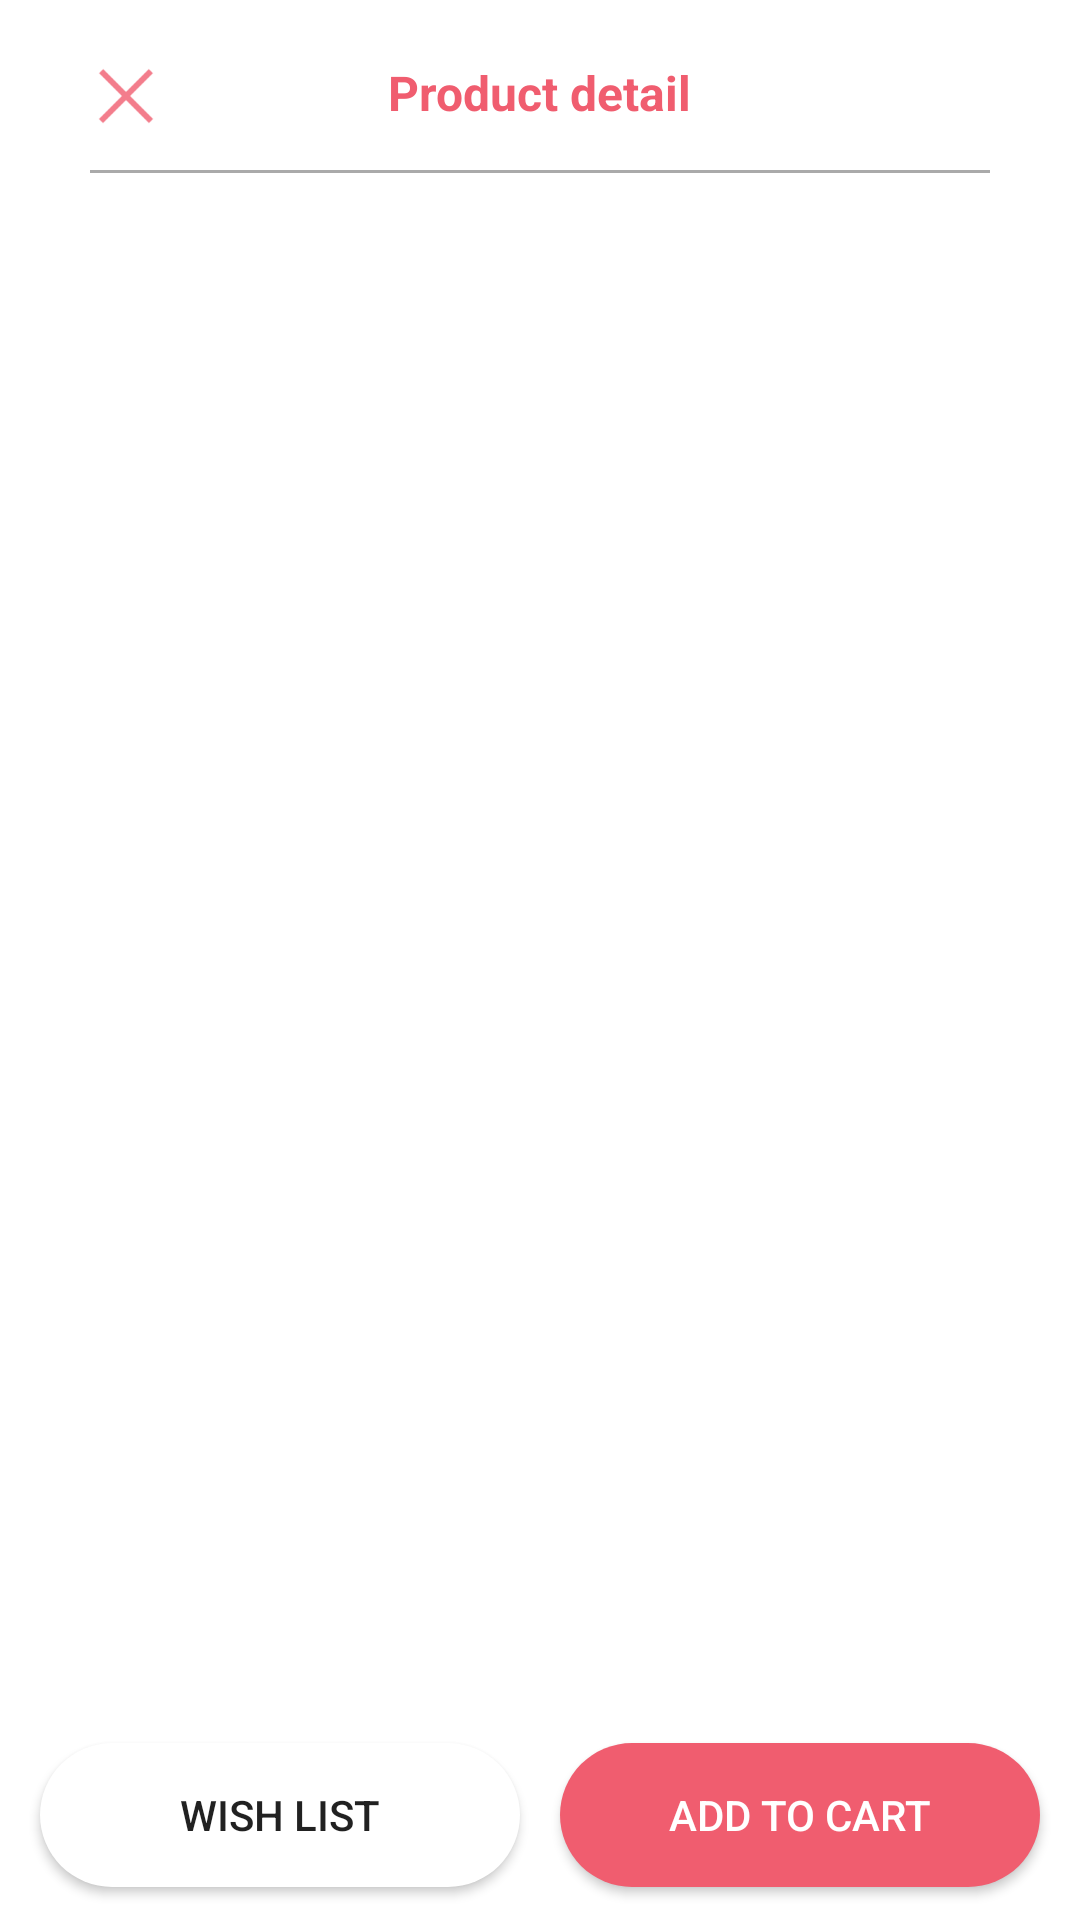

Icons on this 1080 × 1920 Android screen, each with its box as [x1=x1, y1=y1, x2=x2, y2=y2]:
close: [x1=99, y1=69, x2=153, y2=123]
